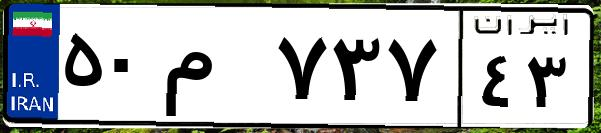0: (110, 28, 158, 98)
3: (330, 28, 385, 110), (525, 38, 570, 115)
4: (475, 38, 525, 113)
5: (57, 26, 110, 100)
7: (270, 28, 330, 110), (385, 28, 445, 110)
م: (158, 20, 270, 120)
